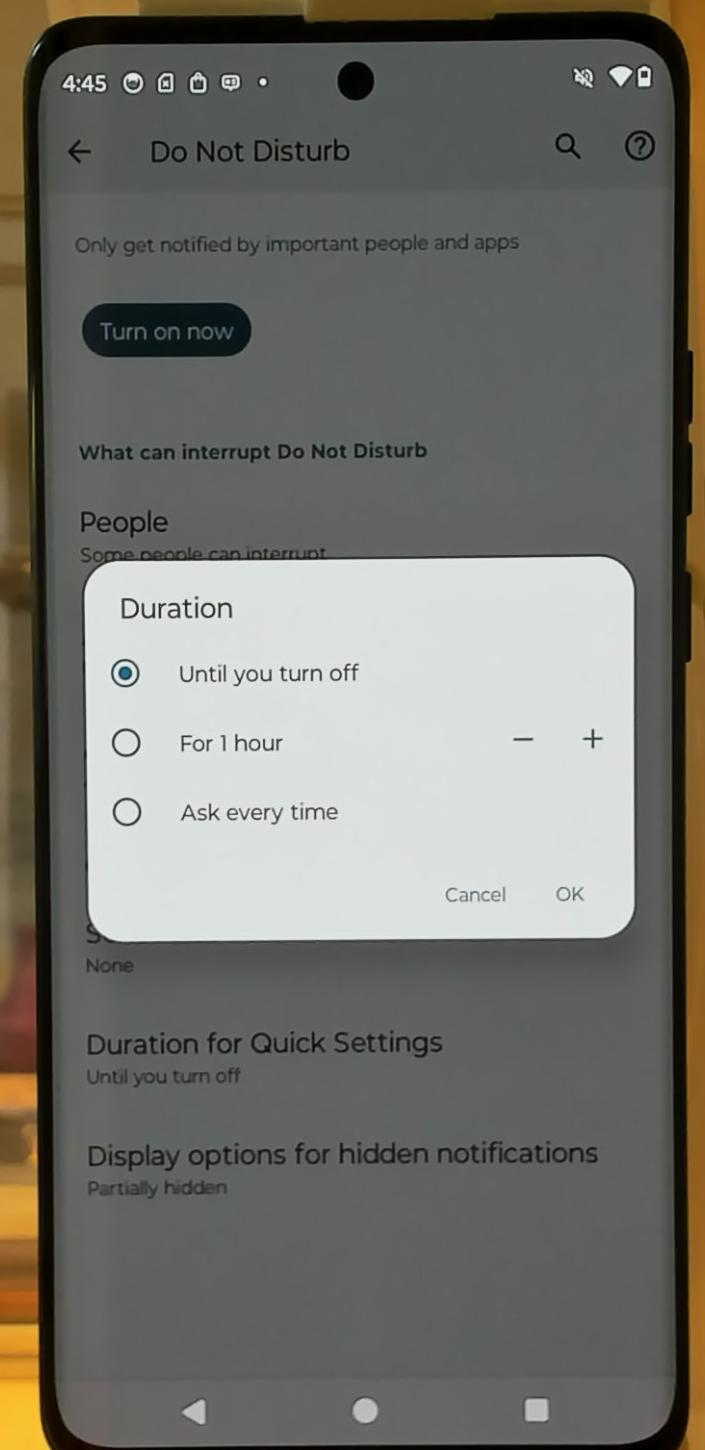RadioButton: (103, 650, 377, 693), (103, 789, 350, 832), (105, 720, 293, 766)
